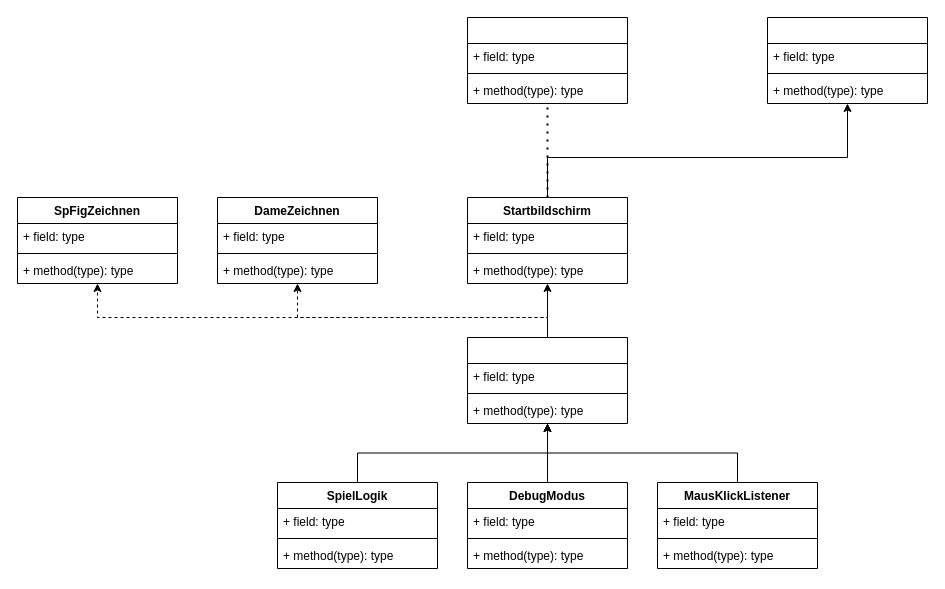
The diagram is 945 pixels wide and 589 high, and some of its shapes have lost their labels. Each missing label, with the box of its shape:
Fenster: (766, 16, 928, 104)
Main: (466, 16, 628, 104)
SpielGUI: (466, 336, 628, 424)
